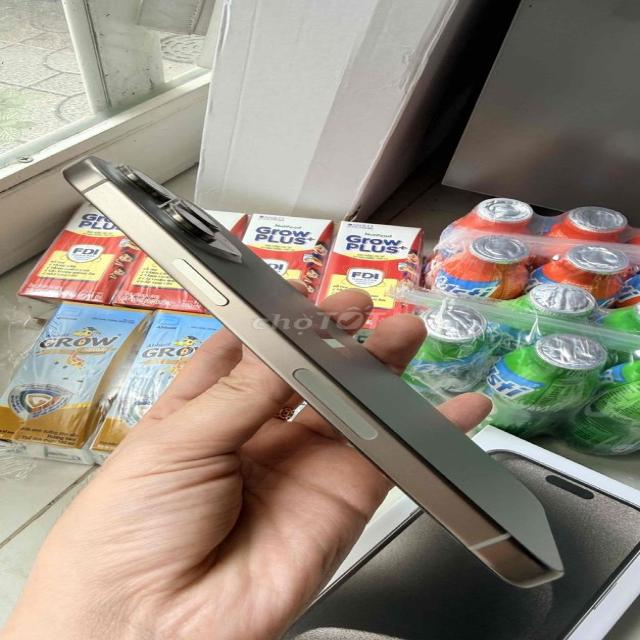gen_15: (45, 150, 582, 589)
